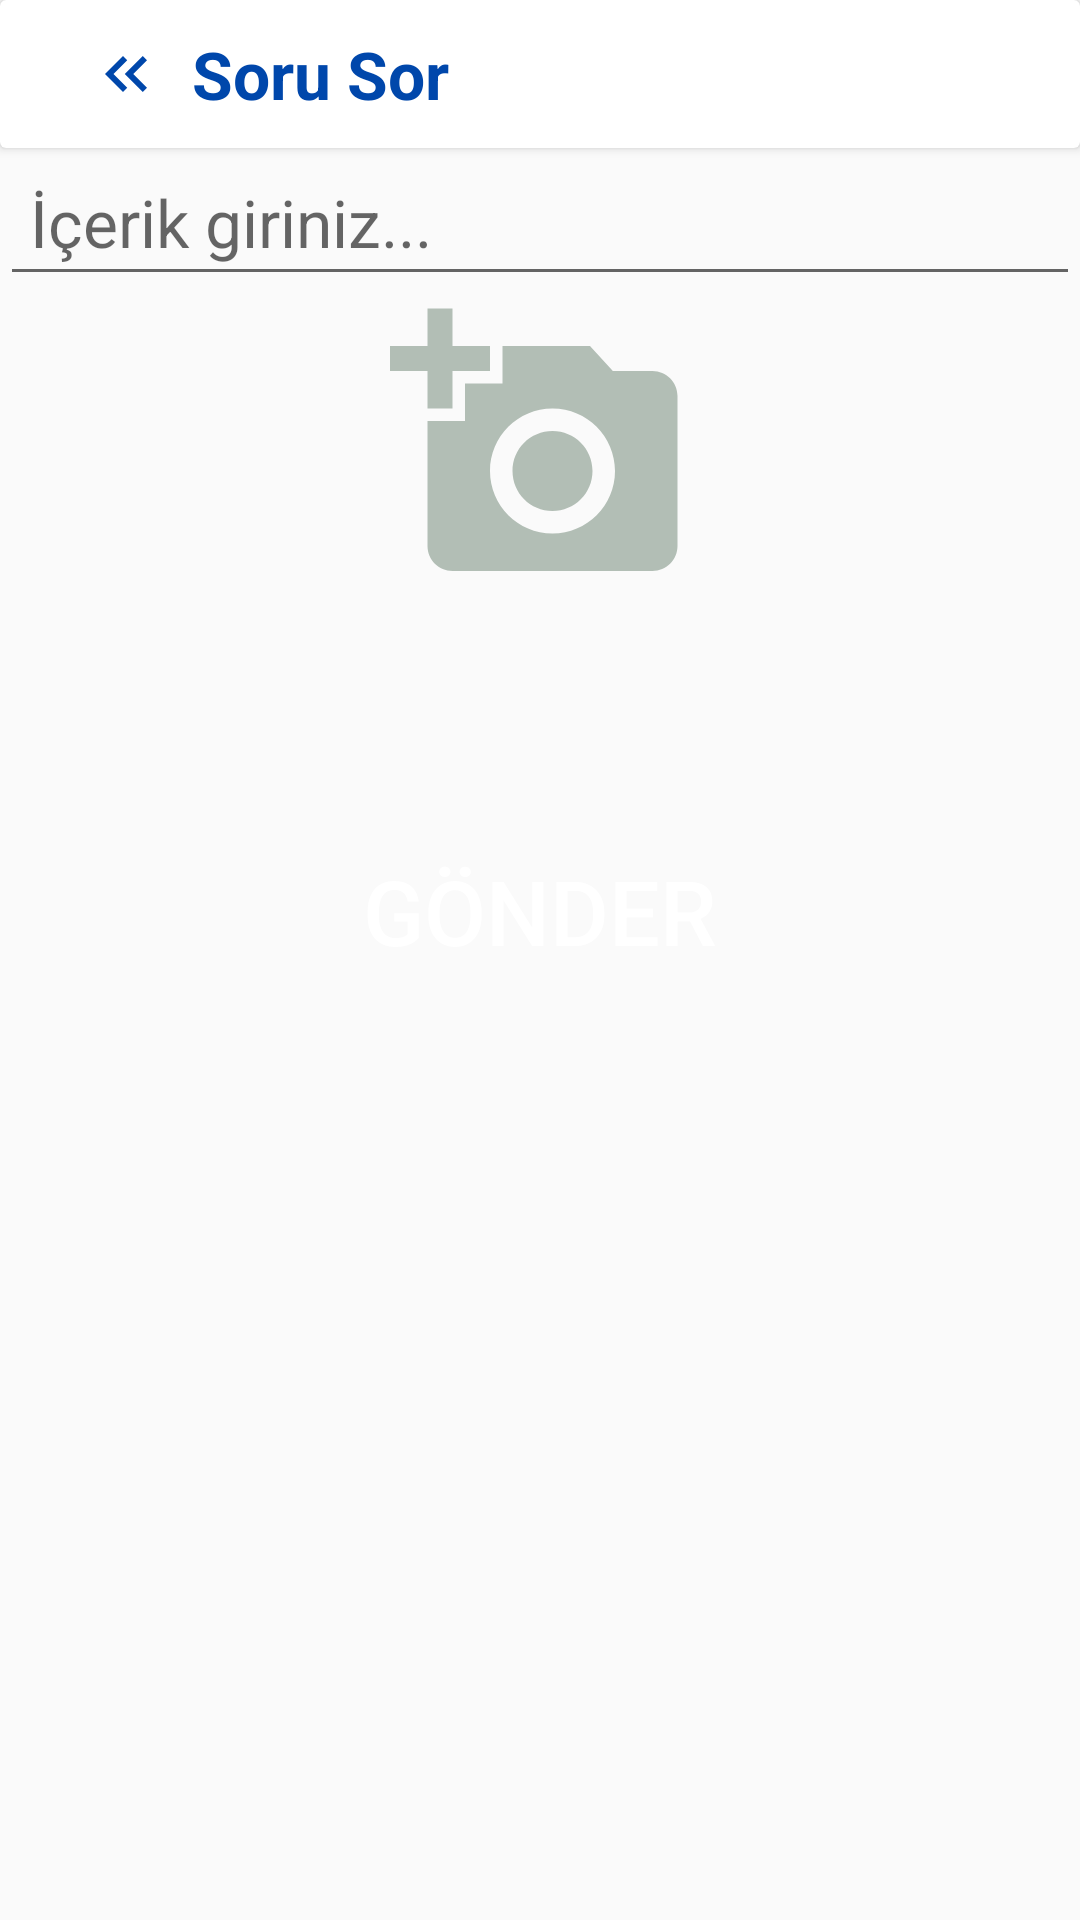

Where icons sit on this 1080x1920 app screen, as (left=x1, top=y1, right=x2, bottom=y2):
add photo: (left=390, top=308, right=678, bottom=571)
